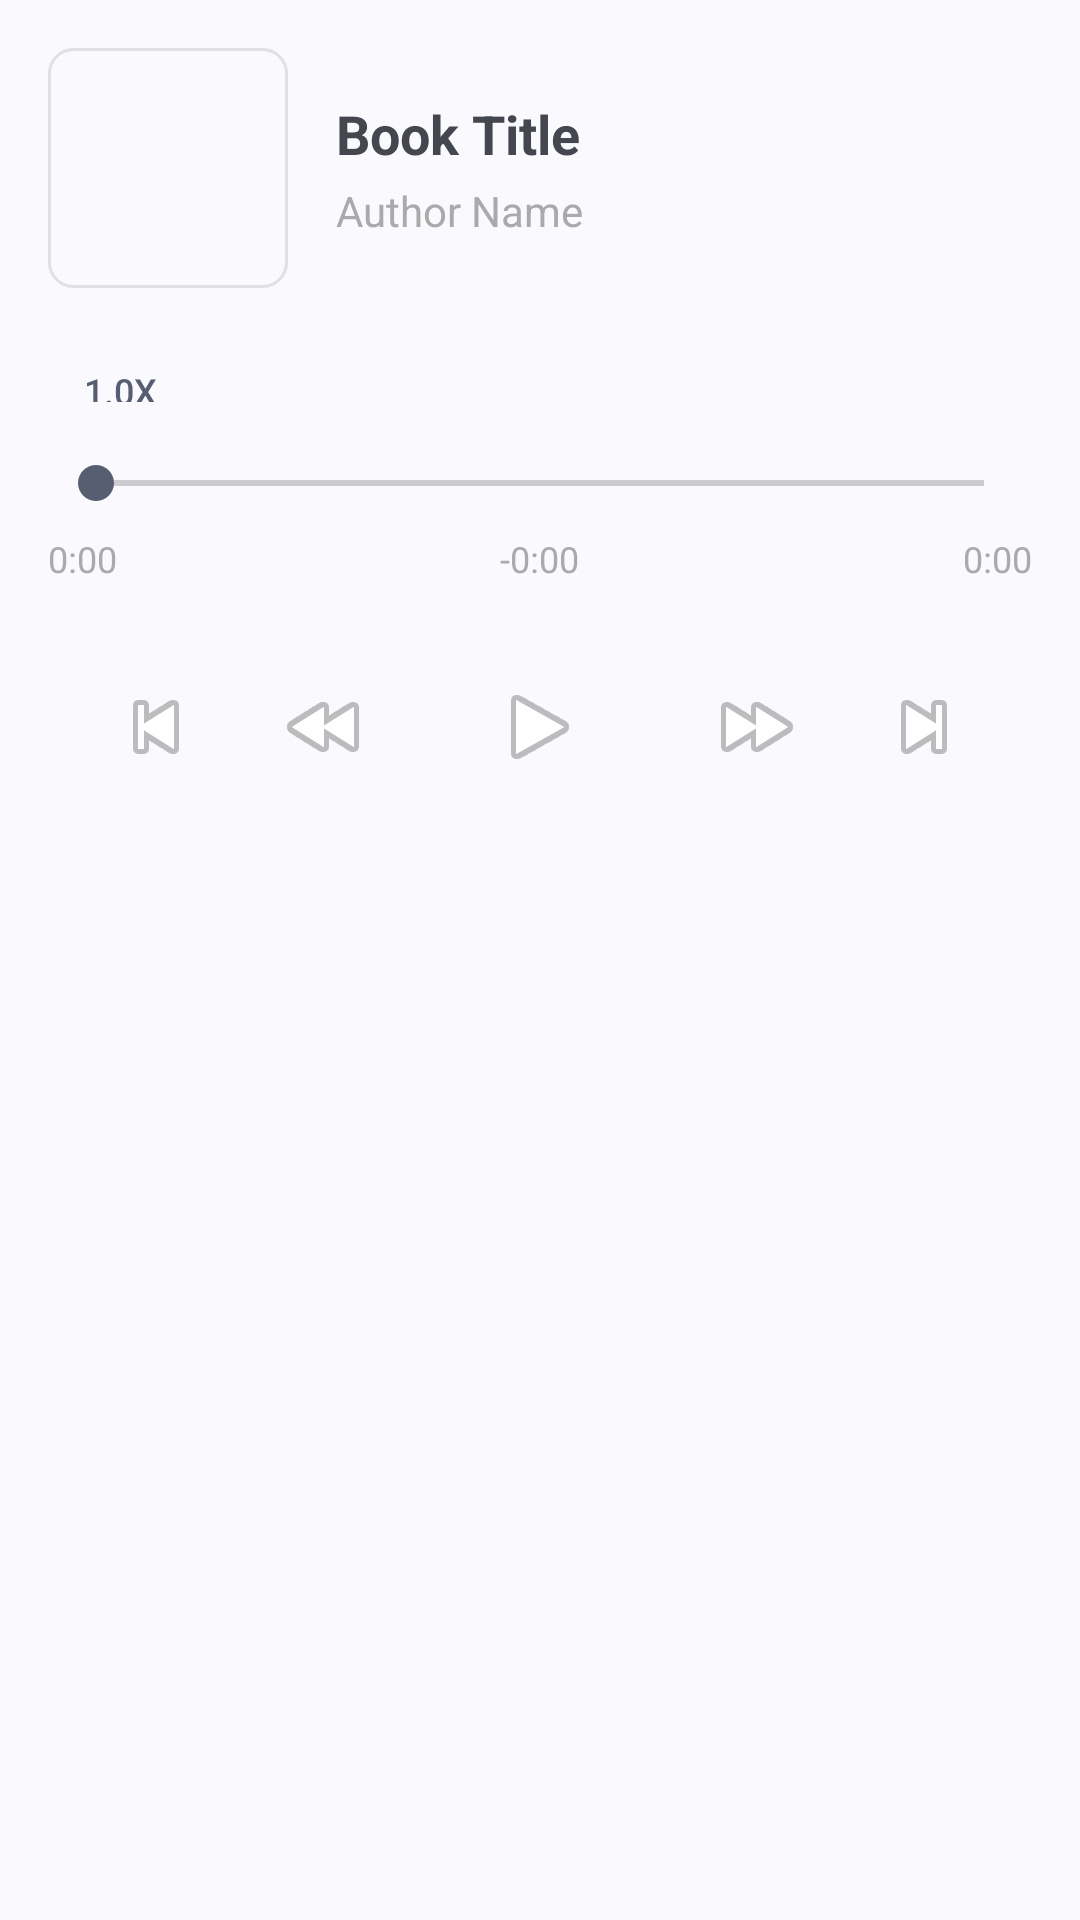

Locate icon controls on the screen. Image size 1080px×1920px, boxes as (x1,y1,x2,y2).
Next Chapter: (901,700,947,754)
Play/Pause: (511,695,569,759)
Previous Chapter: (133,700,179,754)
Skip Backward 30s: (287,702,359,752)
Skip Forward 30s: (721,702,793,752)
